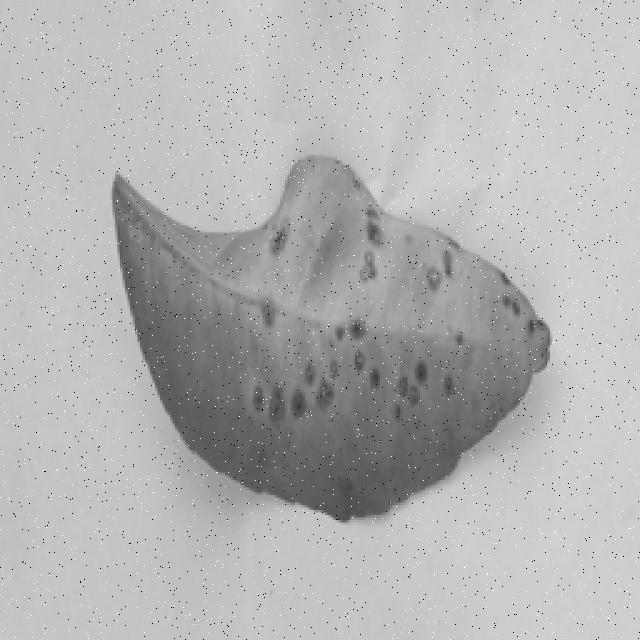canker: (114, 152, 562, 537)
